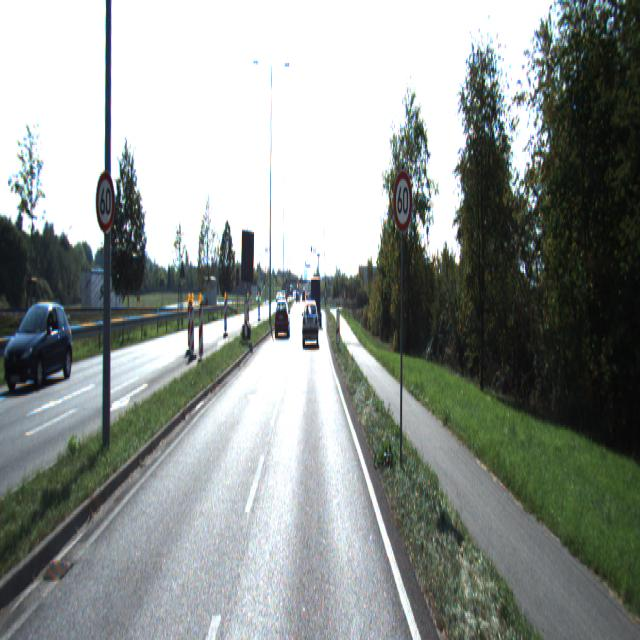Car: (3, 303, 73, 393), (302, 306, 318, 349), (274, 300, 290, 340), (310, 277, 322, 327)
